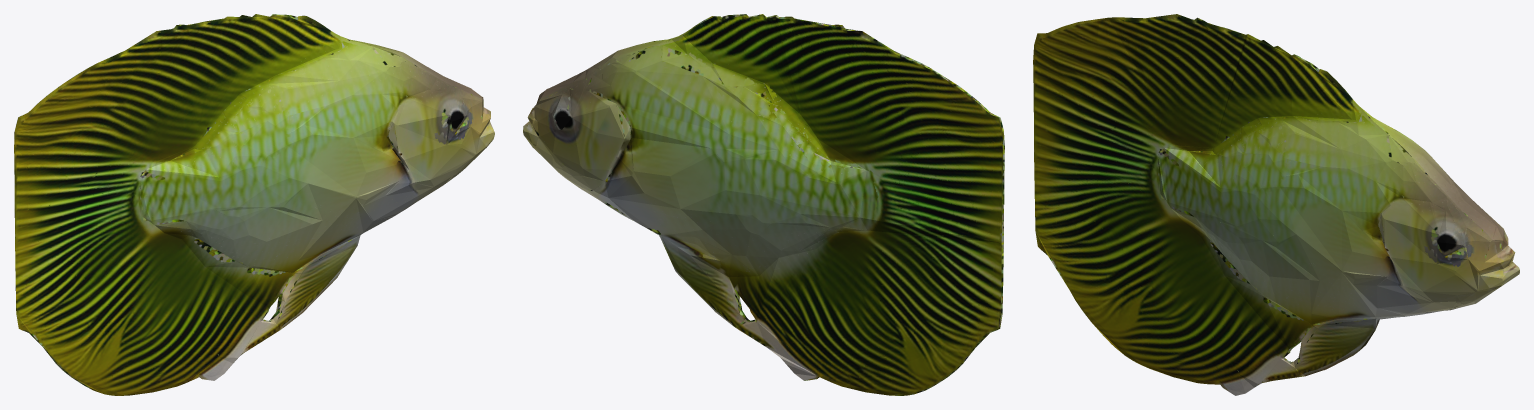
Rendered from fish_0120_smpl23_resized.glb.
The picture shows the model from 3 angles, left to right: view 1: azimuth 30°, elevation 25°; view 2: azimuth 150°, elevation 25°; view 3: azimuth 330°, elevation 25°; orthographic projection.
Visible parts, largest first — view 1: world; view 2: world; view 3: world.
Boxes of the visible parts, x1,y1,x2,y2 form: world: (14,14,494,395); world: (523,14,1004,395); world: (1033,14,1519,395).
Bounding box in the file's own units: 1.99 × 1.45 × 0.2644.
Materials: 1 (1 with a texture image).
